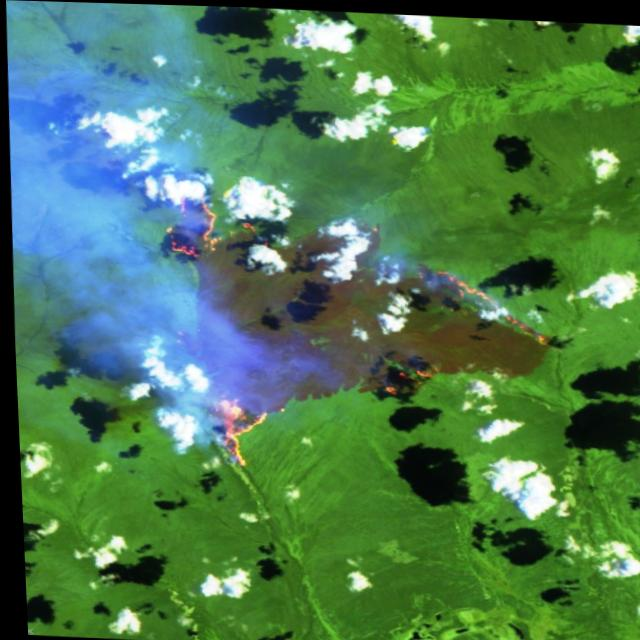fire: (423, 259, 556, 347), (153, 169, 260, 266), (199, 385, 273, 475), (367, 346, 433, 404)
